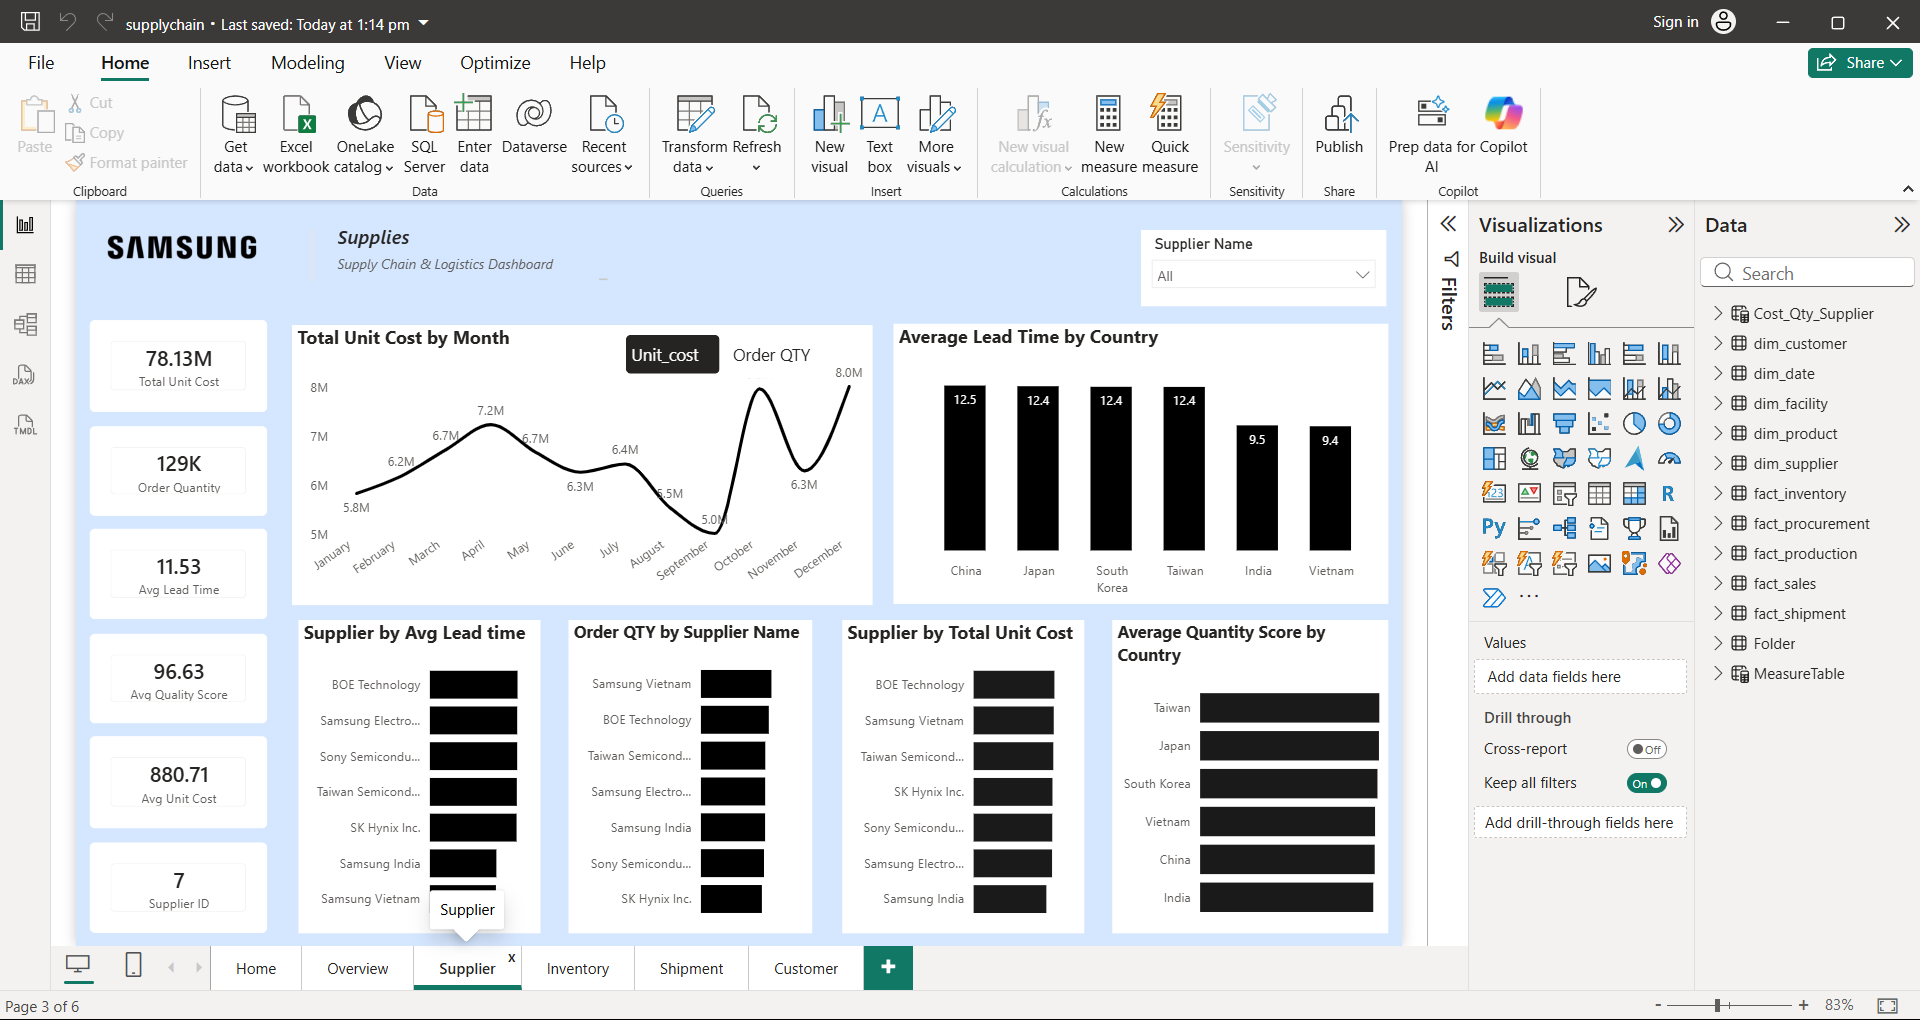

The dashboard page shown, as its layout file describes it:
{"tool":"powerbi","page":{"name":"Supplier","canvas":[1280,720],"ordinal":2},"visuals":[{"type":"textbox","title":"Supplies","box":[247.3,22.9,270.2,59.1],"z":0},{"type":"lineChart","title":"Total Unit Cost by Month","fields":{"Y":["MeasureTable.Total_unit_cost"],"Category":["dim_date.month_name"]},"box":[208.1,120.1,560,270],"z":0,"group":"g1"},{"type":"shape","box":[181,29,92.9,49.5],"z":1000},{"type":"advancedSlicerVisual","fields":{"Values":["Cost_Qty_Supplier.Cost_Qty_Supplier"]},"box":[525,124.4,198.8,47.5],"z":1000,"group":"g1"},{"type":"image","box":[19.3,8.4,159.3,73.6],"z":2000},{"type":"cardVisual","fields":{"Data":["MeasureTable.Order_QTY"]},"box":[13.8,218.2,171.2,86.2],"z":3000},{"type":"cardVisual","fields":{"Data":["MeasureTable.Avg_Lead_Time"]},"box":[13.8,317.8,171.2,87.5],"z":4000},{"type":"cardVisual","fields":{"Data":["MeasureTable.Avg_quality_Score"]},"box":[13.8,418.5,171.2,86.2],"z":5000},{"type":"cardVisual","fields":{"Data":["MeasureTable.Avg_Unit_Cost"]},"box":[13.8,518,171.2,88.8],"z":6000},{"type":"cardVisual","fields":{"Data":["CountNonNull(dim_supplier.supplier_id)"]},"box":[13.8,620,171.2,87.5],"z":7000},{"type":"cardVisual","fields":{"Data":["MeasureTable.Total_unit_cost"]},"box":[13.8,116.2,171.2,88.8],"z":8000},{"type":"barChart","title":"Supplier by Avg Lead time","fields":{"Y":["MeasureTable.Avg_Lead_Time"],"Category":["dim_supplier.supplier_name"]},"box":[215,405,233.8,302.5],"z":9000},{"type":"barChart","title":"Order QTY by Supplier Name","fields":{"Y":["MeasureTable.Order_QTY"],"Category":["dim_supplier.supplier_name"]},"box":[475,405,235,302.5],"z":10000},{"type":"barChart","title":"Supplier by Total Unit Cost","fields":{"Y":["MeasureTable.Total_unit_cost"],"Category":["dim_supplier.supplier_name"]},"box":[740,405,233.8,302.5],"z":11000},{"type":"columnChart","title":"Average Lead Time by Country","fields":{"Category":["dim_supplier.country"],"Y":["MeasureTable.Avg_Lead_Time"]},"box":[788.8,120,477.5,270],"z":12000},{"type":"group","id":"g1","title":"Group 1","box":[208.1,120.1,560,270],"z":13000},{"type":"barChart","title":"Average Quantity Score by Country","fields":{"Category":["dim_supplier.country"],"Y":["MeasureTable.Avg_quality_Score"]},"box":[1000,405,266.2,302.5],"z":14000},{"type":"pageNavigator","box":[585.1,45.8,664.7,35],"z":15001}]}

Visuals, with their boxes on the page's 1280x720 design canvas (x1, y1, x2, y2). These are canvas units, not pixel positions in the 1920x1020 screenshot, which may show the page scaled, cropped or inside an application window:
"Supplies" textbox: left=247, top=23, right=518, bottom=82
"Total Unit Cost by Month" lineChart: left=208, top=120, right=768, bottom=390
shape: left=181, top=29, right=274, bottom=78
advancedSlicerVisual - Cost_Qty_Supplier.Cost_Qty_Supplier: left=525, top=124, right=724, bottom=172
image: left=19, top=8, right=179, bottom=82
cardVisual - MeasureTable.Order_QTY: left=14, top=218, right=185, bottom=304
cardVisual - MeasureTable.Avg_Lead_Time: left=14, top=318, right=185, bottom=405
cardVisual - MeasureTable.Avg_quality_Score: left=14, top=418, right=185, bottom=505
cardVisual - MeasureTable.Avg_Unit_Cost: left=14, top=518, right=185, bottom=607
cardVisual - CountNonNull(dim_supplier.supplier_id): left=14, top=620, right=185, bottom=708
cardVisual - MeasureTable.Total_unit_cost: left=14, top=116, right=185, bottom=205
"Supplier by Avg Lead time" barChart: left=215, top=405, right=449, bottom=708
"Order QTY by Supplier Name" barChart: left=475, top=405, right=710, bottom=708
"Supplier by Total Unit Cost" barChart: left=740, top=405, right=974, bottom=708
"Average Lead Time by Country" columnChart: left=789, top=120, right=1266, bottom=390
"Group 1" group: left=208, top=120, right=768, bottom=390
"Average Quantity Score by Country" barChart: left=1000, top=405, right=1266, bottom=708
pageNavigator: left=585, top=46, right=1250, bottom=81
